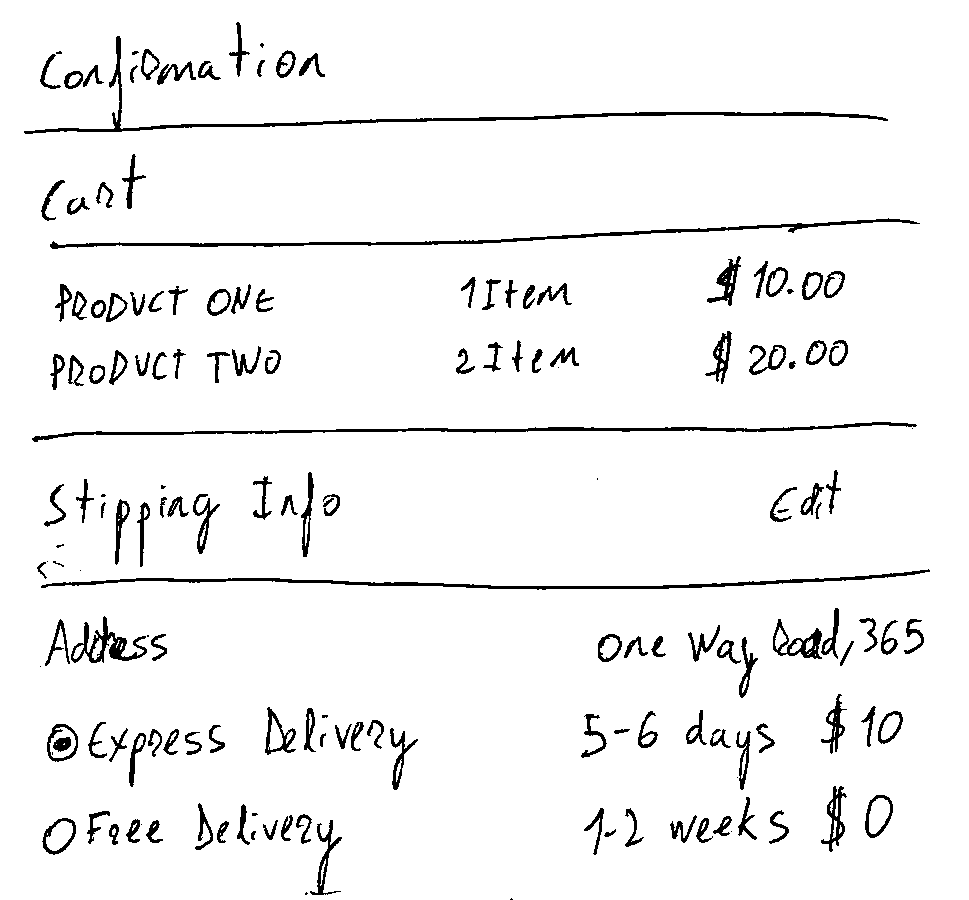Radio Button: (43, 707, 232, 782)
